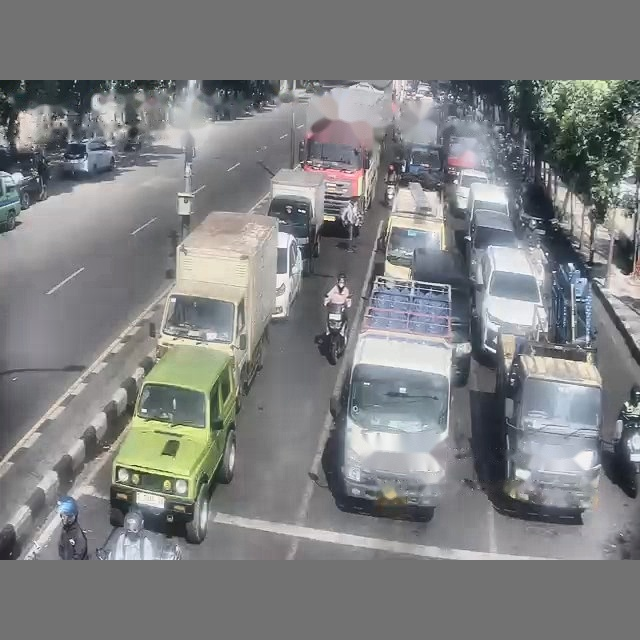Mobil: (110, 345, 236, 543), (471, 246, 547, 355), (411, 248, 471, 386), (0, 147, 46, 210), (272, 232, 302, 318), (62, 138, 115, 176), (451, 169, 489, 211), (0, 171, 20, 230)
Motor: (614, 416, 639, 488), (325, 303, 347, 364), (383, 182, 398, 208)
Truk: (331, 276, 451, 521), (496, 265, 602, 515), (149, 211, 277, 409), (299, 85, 390, 222), (267, 169, 324, 274)
